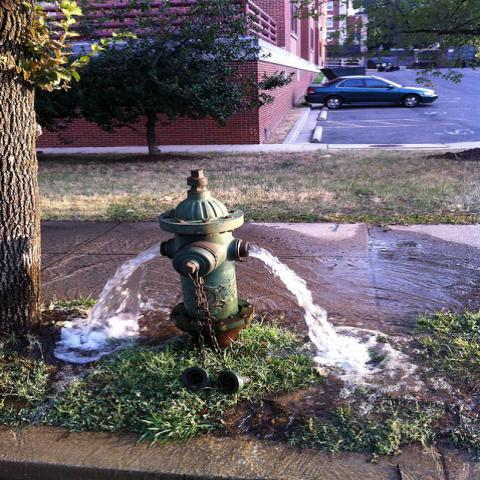car: (302, 76, 439, 110)
